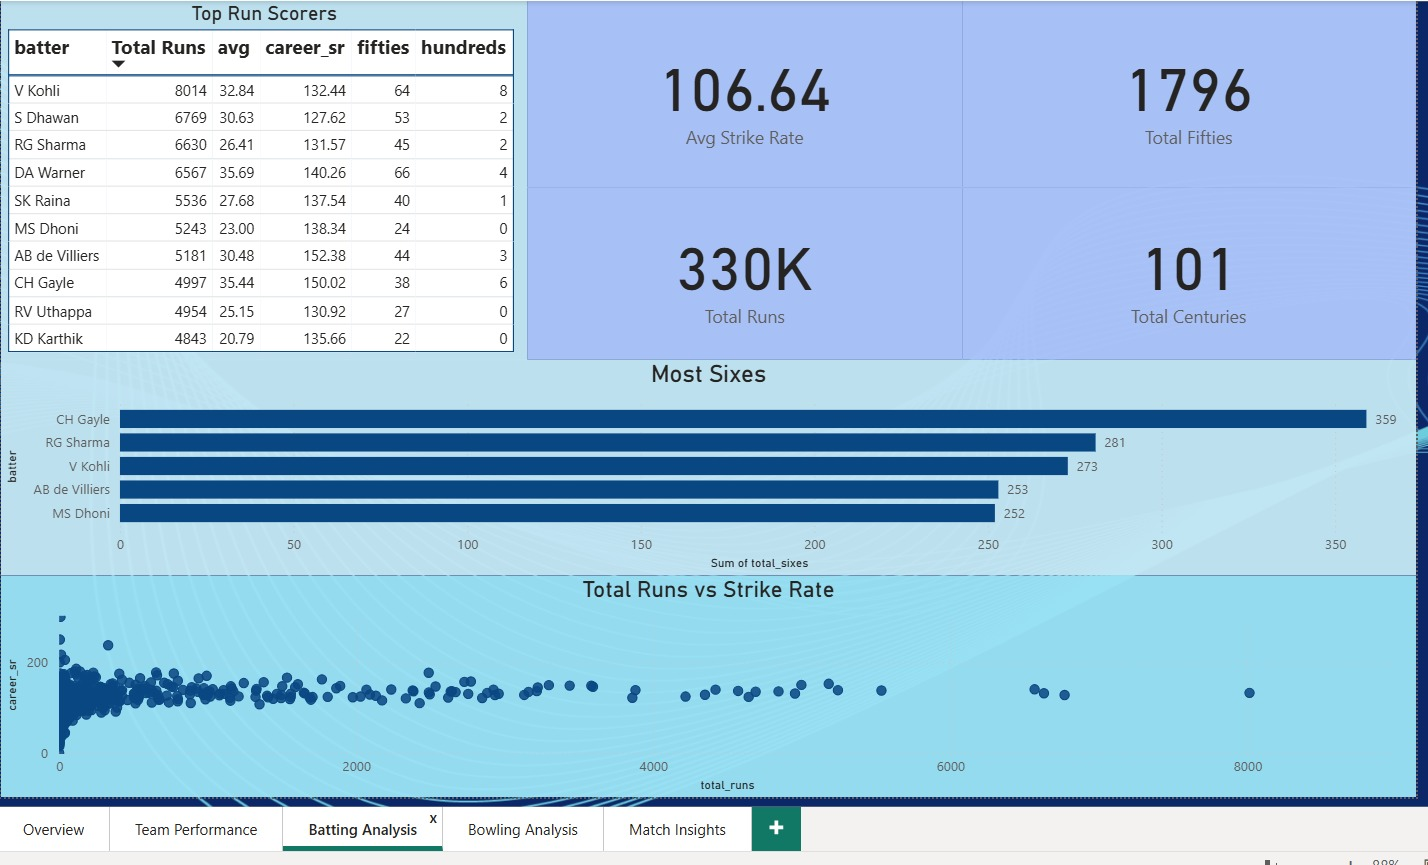

Layout of this report page (visuals, bound fields, positions):
{"tool":"powerbi","page":{"name":"Batting Analysis","canvas":[1280,720],"ordinal":2},"visuals":[{"type":"tableEx","title":"Top Run Scorers","fields":{"Values":["batting_career.batter","_Measures.Total Runs","batting_career.avg","batting_career.career_sr","batting_career.fifties","batting_career.hundreds"]},"box":[0,0,476.2,325],"z":0},{"type":"scatterChart","title":"Total Runs vs Strike Rate","fields":{"Y":["batting_career.career_sr"],"X":["batting_career.total_runs"]},"box":[0,520,1280,200],"z":1000},{"type":"card","fields":{"Values":["_Measures.Total Runs"]},"box":[476.2,168.8,393.8,156.2],"z":2000},{"type":"card","fields":{"Values":["_Measures.Avg Strike Rate"]},"box":[476.2,0,393.8,168.8],"z":3000},{"type":"card","fields":{"Values":["_Measures.Total Centuries"]},"box":[870,168.8,410,156.2],"z":4000},{"type":"card","fields":{"Values":["_Measures.Total Fifties"]},"box":[870,0,410,168.8],"z":5000},{"type":"barChart","title":"Most Sixes","fields":{"Y":["Sum(batting_career.total_sixes)"],"Category":["batting_career.batter"]},"box":[0,325,1280,195],"z":6000}]}

Visuals, with their boxes on the page's 1280x720 design canvas (x1, y1, x2, y2). These are canvas units, not pixel positions in the 1428x865 screenshot, which may show the page scaled, cropped or inside an application window:
"Top Run Scorers" tableEx: 0:0:476:325
"Total Runs vs Strike Rate" scatterChart: 0:520:1280:720
card - _Measures.Total Runs: 476:169:870:325
card - _Measures.Avg Strike Rate: 476:0:870:169
card - _Measures.Total Centuries: 870:169:1280:325
card - _Measures.Total Fifties: 870:0:1280:169
"Most Sixes" barChart: 0:325:1280:520
